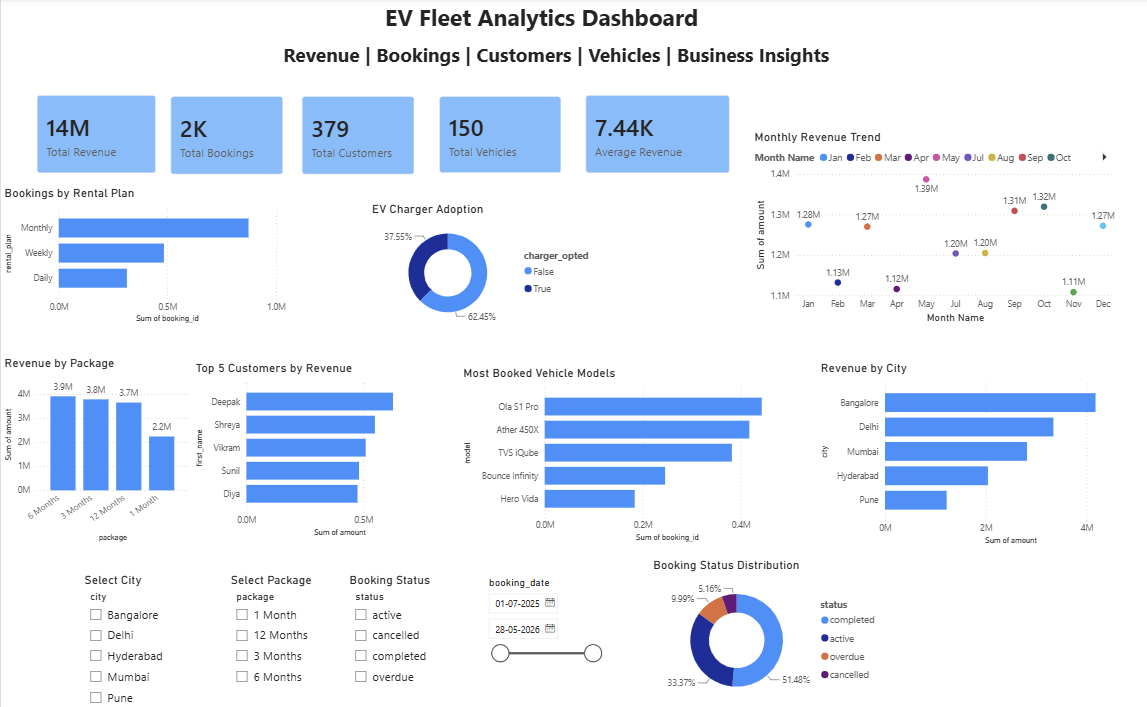

The dashboard page shown, as its layout file describes it:
{"tool":"powerbi","page":{"name":"Page 1","canvas":[1600,1000],"ordinal":0},"visuals":[{"type":"cardVisual","fields":{"Data":["cleaned_master.Total Revenue"]},"box":[33.2,118.7,200.7,143.1],"z":0},{"type":"cardVisual","fields":{"Data":["cleaned_master.Total Bookings"]},"box":[219.9,120.4,192,143.1],"z":1000},{"type":"cardVisual","fields":{"Data":["cleaned_master.Total Customers"]},"box":[403.1,120.4,192,143.1],"z":2000},{"type":"cardVisual","fields":{"Data":["cleaned_master.Total Vehicles"]},"box":[595.1,120.4,204.2,141.4],"z":3000},{"type":"lineChart","title":"Monthly Revenue Trend","fields":{"Y":["Sum(cleaned_master.amount)"],"Series":["cleaned_master.Month Name"],"Category":["cleaned_master.Month Name"]},"box":[1047.1,183.2,513.1,275.7],"z":4000},{"type":"clusteredBarChart","title":"Revenue by City","fields":{"Category":["cleaned_master.city"],"Y":["Sum(cleaned_master.amount)"]},"box":[1139.6,506.1,460.7,261.8],"z":5000},{"type":"clusteredColumnChart","title":"Revenue by Package","fields":{"Category":["cleaned_master.package"],"Y":["Sum(cleaned_master.amount)"]},"box":[0,499.1,267,265.3],"z":6000},{"type":"donutChart","title":"Booking Status Distribution","fields":{"Category":["cleaned_master.status"],"Y":["Sum(cleaned_master.booking_id)"]},"box":[905.8,781.9,328.1,211.2],"z":7000},{"type":"donutChart","title":"EV Charger Adoption","fields":{"Category":["cleaned_master.charger_opted"],"Y":["Sum(cleaned_master.booking_id)"]},"box":[513.1,284.5,329.8,179.8],"z":8000},{"type":"clusteredBarChart","title":"Bookings by Rental Plan","fields":{"Category":["cleaned_master.rental_plan"],"Y":["Sum(cleaned_master.booking_id)"]},"box":[0,261.8,403.1,197.2],"z":9000},{"type":"clusteredBarChart","title":"Most Booked Vehicle Models","fields":{"Category":["cleaned_master.model"],"Y":["Sum(cleaned_master.booking_id)"]},"box":[640.5,513.1,479.9,251.3],"z":10000},{"type":"slicer","title":"Select City","fields":{"Values":["cleaned_master.city"]},"box":[111.7,802.8,204.2,197.2],"z":11000},{"type":"slicer","title":"Select Package","fields":{"Values":["cleaned_master.package"]},"box":[315.9,802.8,197.2,197.2],"z":12000},{"type":"slicer","title":"Booking Status","fields":{"Values":["cleaned_master.status"]},"box":[481.7,802.8,158.8,197.2],"z":13000},{"type":"clusteredBarChart","title":"Top 5 Customers by Revenue","fields":{"Category":["cleaned_master.first_name"],"Y":["Sum(cleaned_master.amount)"]},"box":[267,506.1,356,251.3],"z":14000},{"type":"slicer","fields":{"Values":["cleaned_master.booking_date"]},"box":[668.4,802.8,192,178],"z":15000},{"type":"cardVisual","fields":{"Data":["cleaned_master.Average Revenue"]},"box":[799.3,118.7,235.6,143.1],"z":16000},{"type":"textbox","box":[389.2,0,731.2,73.3],"z":17000},{"type":"textbox","box":[389.2,55.8,846.4,62.8],"z":18000},{"type":"textbox","box":[1235,0,346,150],"z":19000}]}

Visuals, with their boxes in screenshot pixels (x1, y1, x2, y2), scaled from the page's 1600x1000 canvas onto the 1147x707 screenshot:
cardVisual - cleaned_master.Total Revenue: l=24, t=84, r=168, b=185
cardVisual - cleaned_master.Total Bookings: l=158, t=85, r=295, b=186
cardVisual - cleaned_master.Total Customers: l=289, t=85, r=427, b=186
cardVisual - cleaned_master.Total Vehicles: l=427, t=85, r=573, b=185
"Monthly Revenue Trend" lineChart: l=751, t=130, r=1118, b=324
"Revenue by City" clusteredBarChart: l=817, t=358, r=1146, b=543
"Revenue by Package" clusteredColumnChart: l=0, t=353, r=191, b=540
"Booking Status Distribution" donutChart: l=649, t=553, r=885, b=702
"EV Charger Adoption" donutChart: l=368, t=201, r=604, b=328
"Bookings by Rental Plan" clusteredBarChart: l=0, t=185, r=289, b=325
"Most Booked Vehicle Models" clusteredBarChart: l=459, t=363, r=803, b=540
"Select City" slicer: l=80, t=568, r=226, b=706
"Select Package" slicer: l=226, t=568, r=368, b=706
"Booking Status" slicer: l=345, t=568, r=459, b=706
"Top 5 Customers by Revenue" clusteredBarChart: l=191, t=358, r=447, b=535
slicer - cleaned_master.booking_date: l=479, t=568, r=617, b=693
cardVisual - cleaned_master.Average Revenue: l=573, t=84, r=742, b=185
textbox: l=279, t=0, r=803, b=52
textbox: l=279, t=39, r=886, b=84
textbox: l=885, t=0, r=1133, b=106
